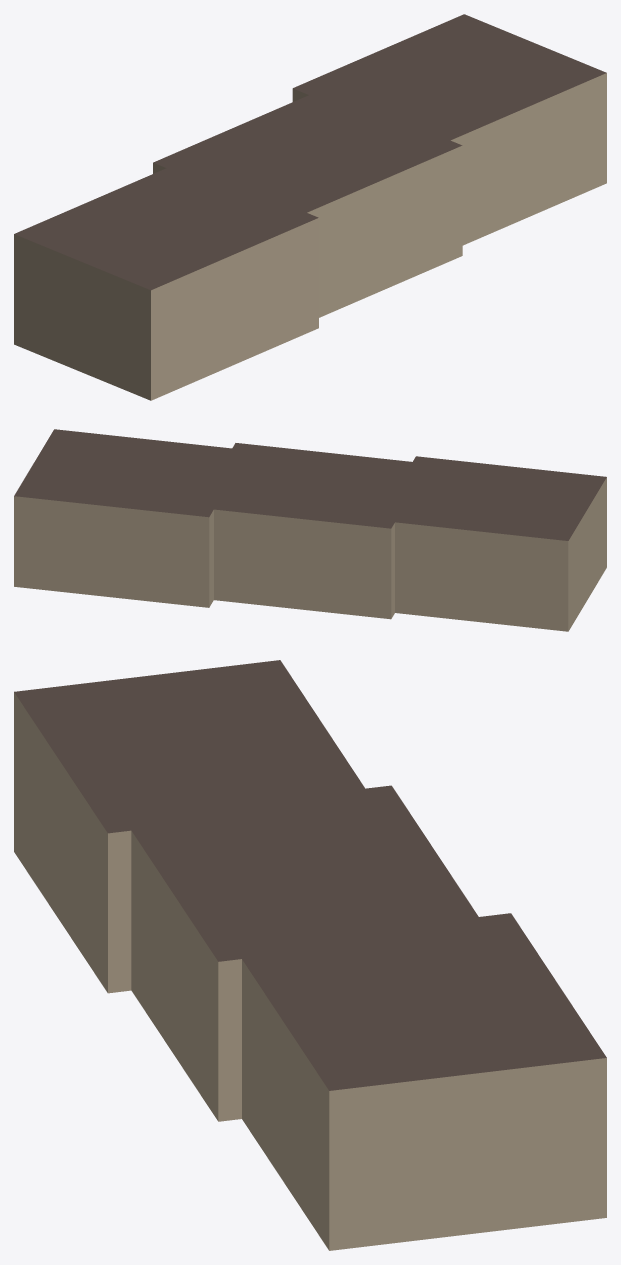
3 renders of one model, top to bottom at view 1: azimuth 30°, elevation 25°; view 2: azimuth 150°, elevation 25°; view 3: azimuth 270°, elevation 25°, orthographic. The views are drawn at different scales.
Parts seen in each view (by area): view 1: HP-w299011321; view 2: HP-w299011321; view 3: HP-w299011321.
Boxes of the visible parts, x1=… form: HP-w299011321: x1=14, y1=14, x2=606, y2=400; HP-w299011321: x1=14, y1=429, x2=606, y2=631; HP-w299011321: x1=14, y1=660, x2=606, y2=1250.
Size of the model in its own units: 52 by 9 by 30.24.
